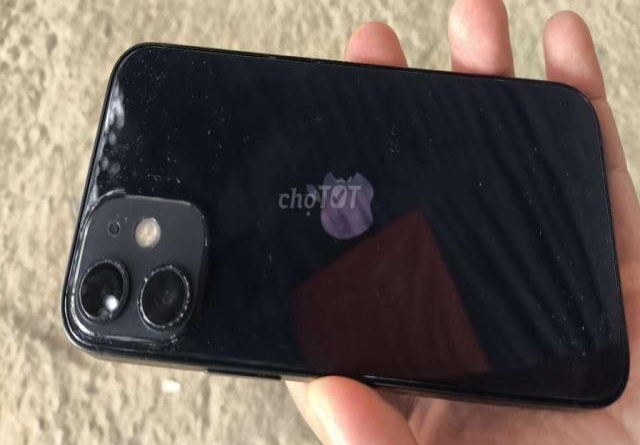scratch: (65, 139, 230, 348), (544, 78, 620, 407), (110, 40, 226, 123), (345, 353, 431, 401)
